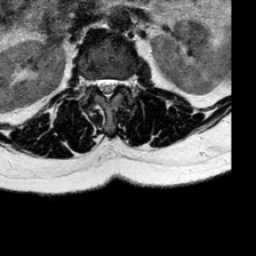CCS_normal: (103, 68, 110, 109)
LFS_stenosis: (119, 69, 128, 94)
LLS_normal: (110, 70, 119, 98)
RFS_normal: (86, 68, 95, 95)
RLS_normal: (95, 70, 103, 99)
